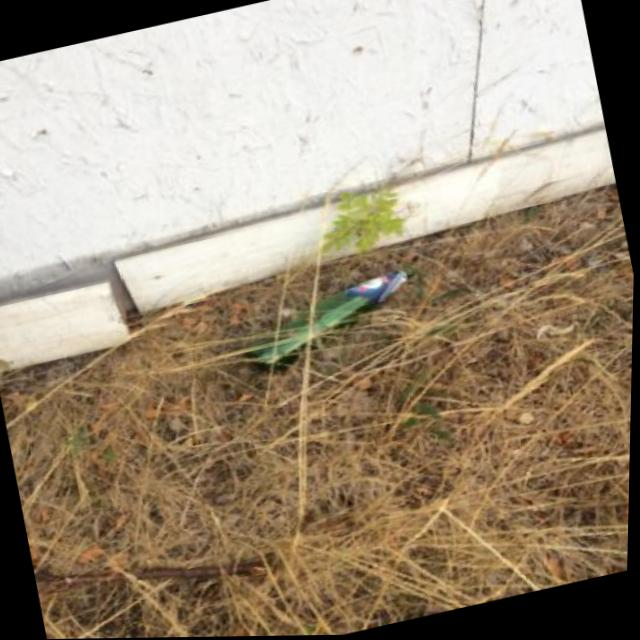glass: (233, 262, 427, 373)
